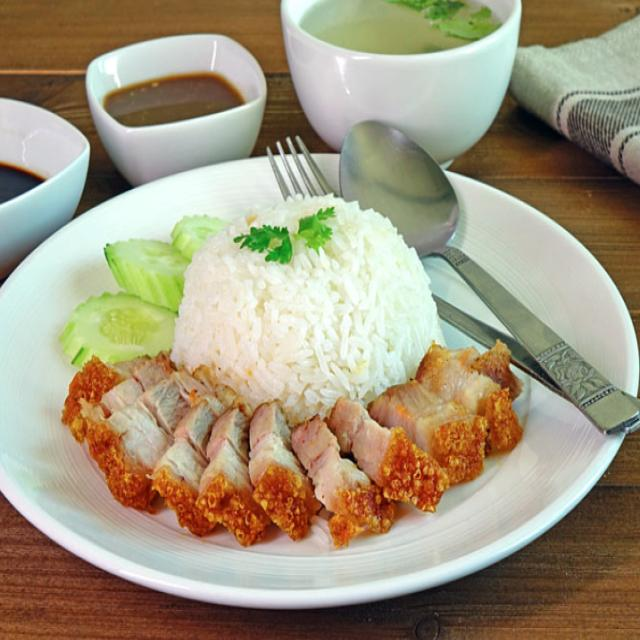Carbohydrate: (170, 194, 451, 408)
Kaow-Crispymoo: (39, 166, 573, 580)
Protein: (65, 342, 526, 552)
Vegetable: (61, 213, 223, 373)
